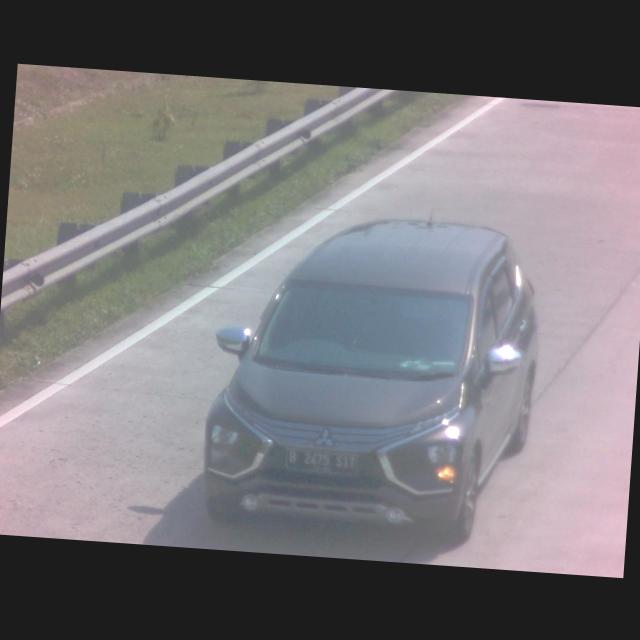plate: (280, 443, 360, 476)
